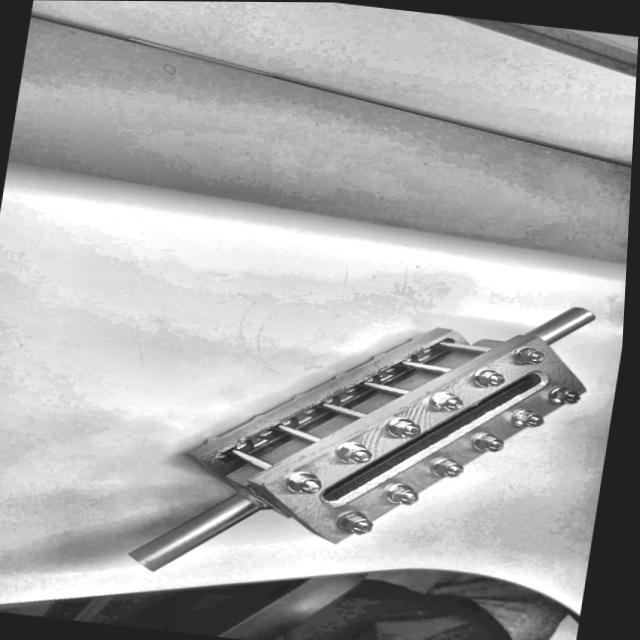ShuiWeiQi_12: (147, 261, 608, 594)
